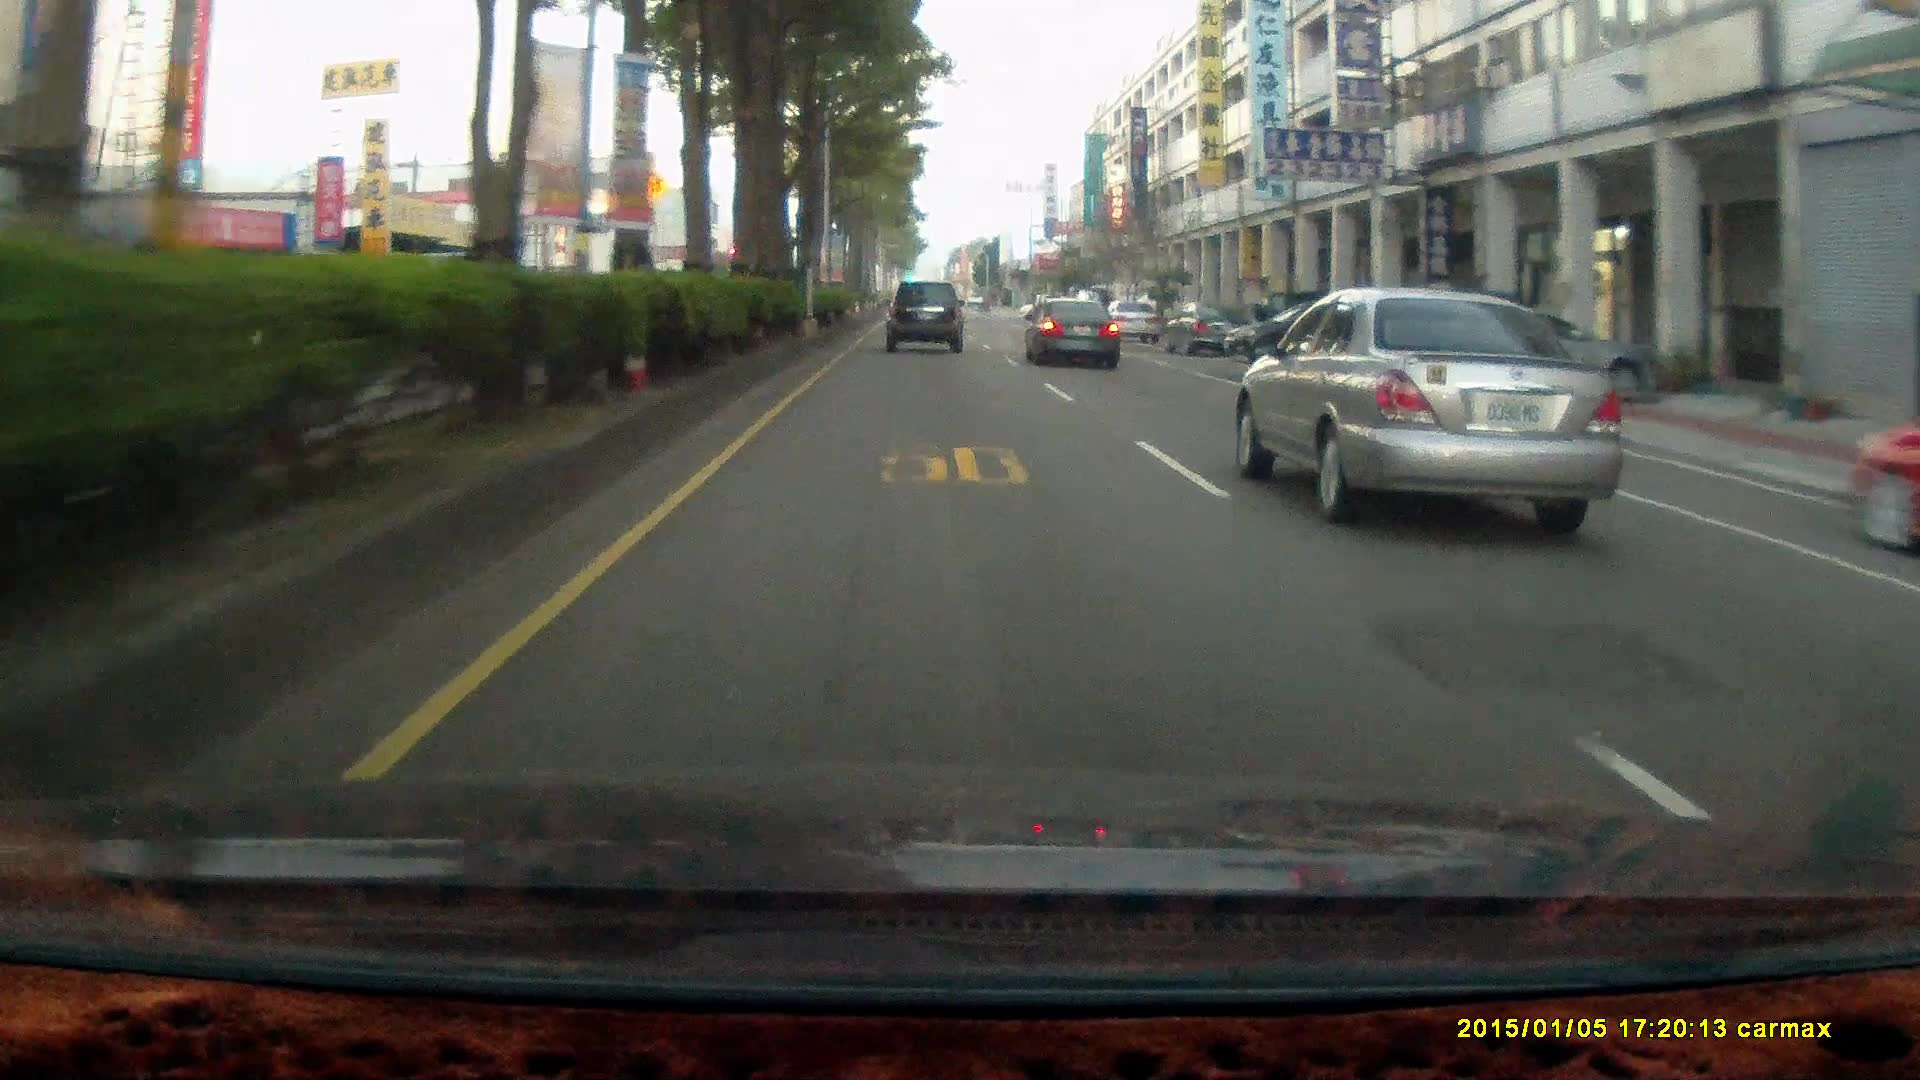vehicle: (1226, 286, 1639, 531), (1390, 303, 1662, 406), (1844, 400, 1920, 560), (1222, 295, 1393, 363), (1026, 293, 1125, 365), (1022, 293, 1117, 367), (886, 280, 967, 356), (882, 276, 965, 347), (1160, 297, 1244, 352), (1104, 294, 1159, 342)
